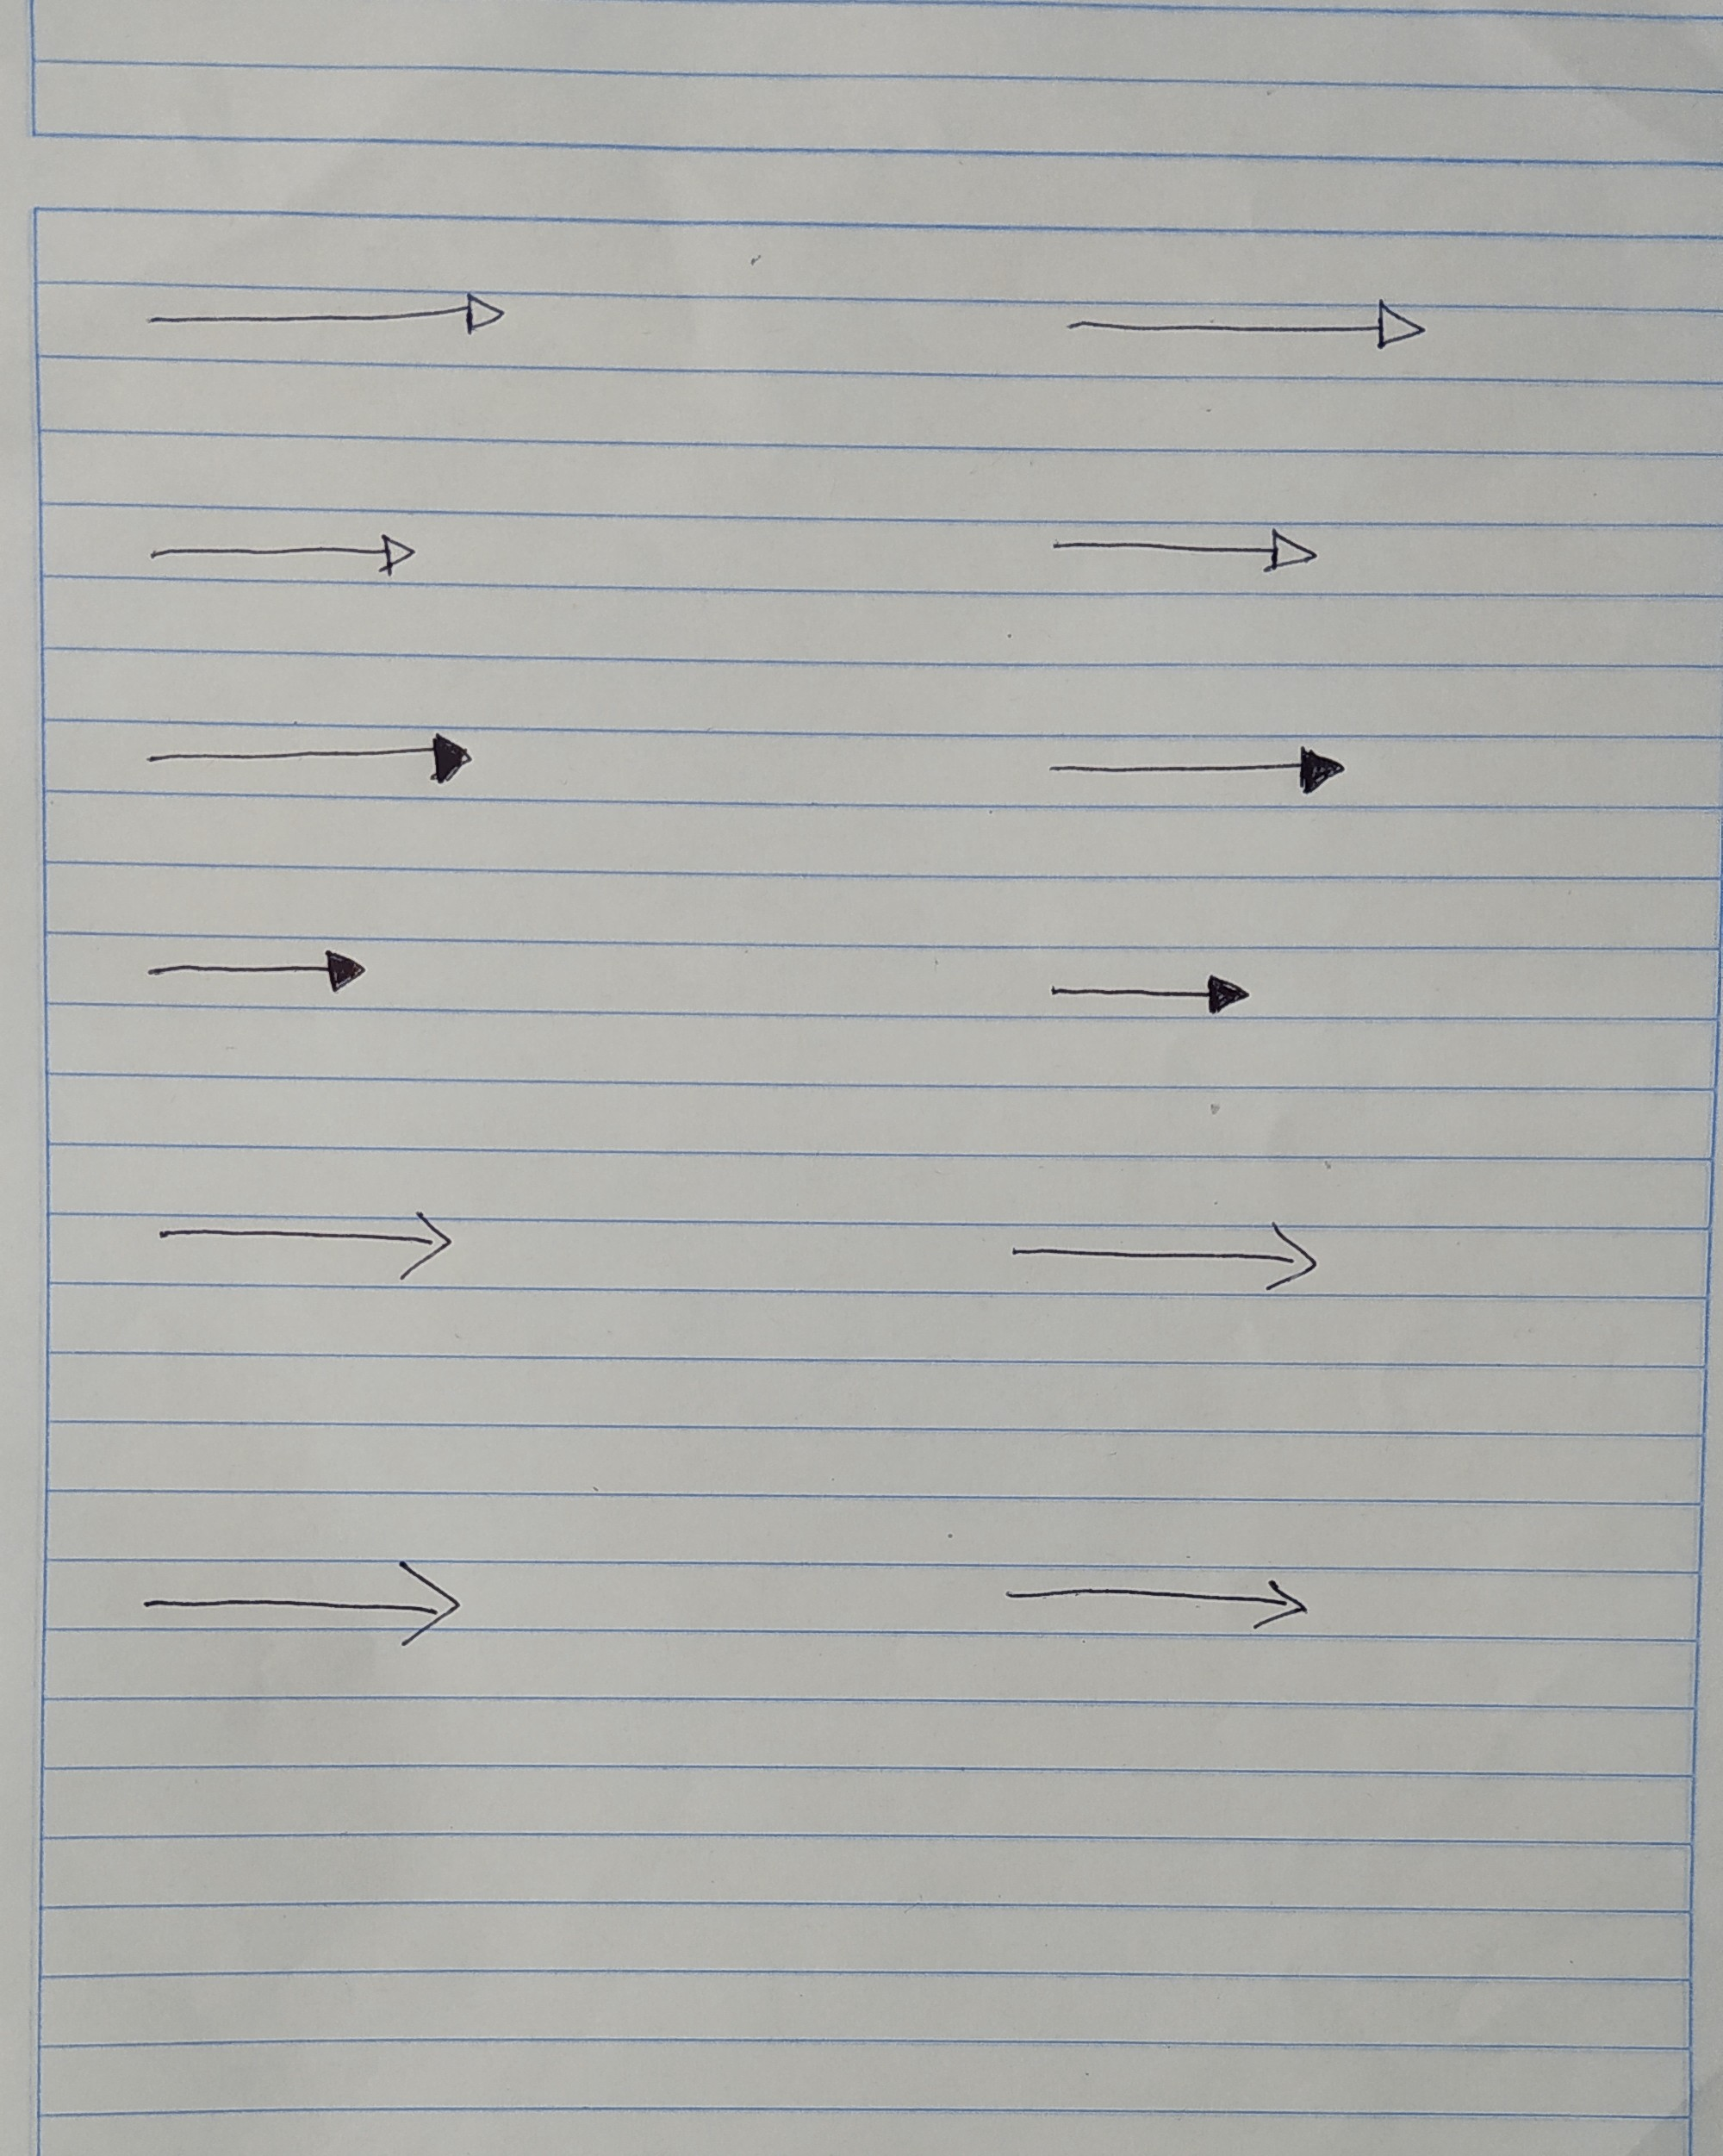arrow_line_right: (137, 1556, 471, 1648), (1004, 1212, 1324, 1296), (151, 1201, 455, 1286), (999, 1562, 1313, 1639), (137, 723, 482, 793), (1057, 292, 1431, 355), (144, 281, 506, 346), (1044, 737, 1350, 809), (142, 521, 415, 591), (1046, 521, 1327, 586), (135, 943, 366, 999), (1044, 964, 1259, 1023)
